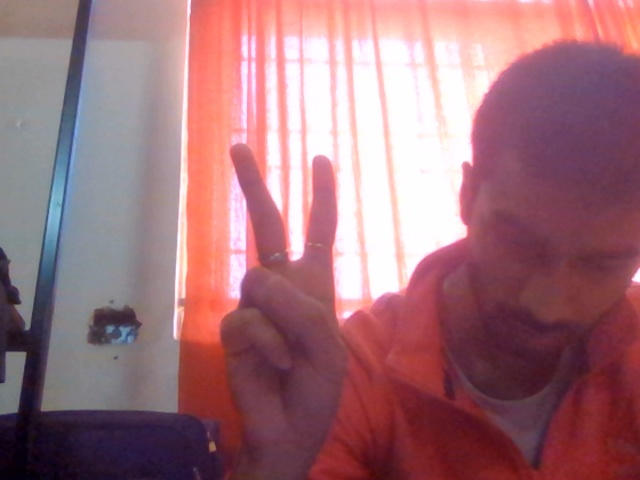V: (176, 120, 410, 480)
